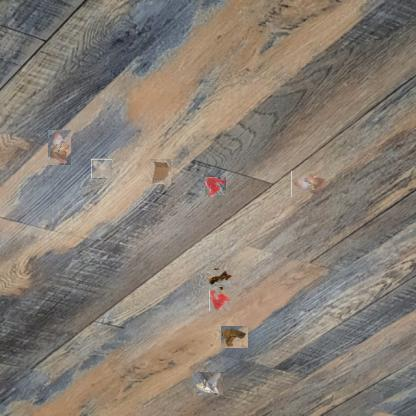dirty: (291, 172, 330, 198), (47, 129, 71, 165), (195, 370, 221, 396), (222, 326, 250, 348), (148, 160, 172, 184), (208, 267, 230, 289), (91, 158, 112, 178)
liquid: (209, 290, 230, 311), (205, 176, 225, 196)
